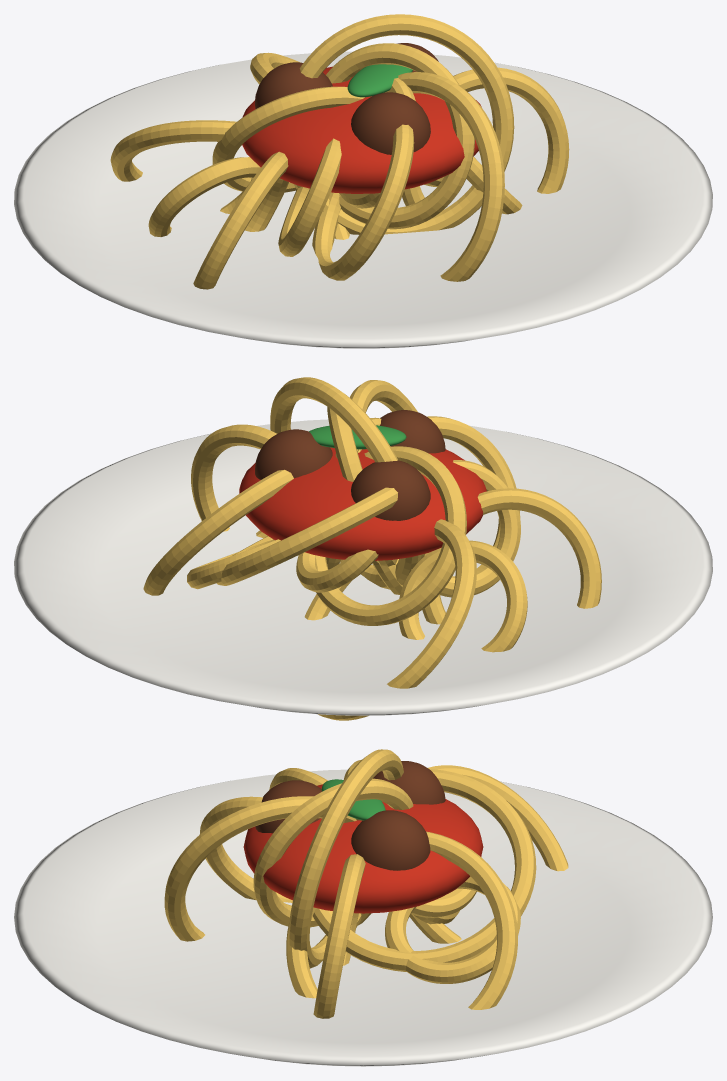
Rendered from plato_espagueti.glb.
3 renders of one model, top to bottom at view 1: azimuth 30°, elevation 25°; view 2: azimuth 150°, elevation 25°; view 3: azimuth 270°, elevation 25°, orthographic.
Parts seen in each view (by area): view 1: plato, Sphere, Torus.012, Torus.009, Torus.017, Torus.014, Torus.011, Torus.020, Torus.008, Sphere.003, Torus.019, Torus.021 (+6 smaller); view 2: plato, Sphere, Torus.008, Torus.021, Torus.011, Torus.012, Torus.018, Torus.016, Torus.015, Sphere.002, Torus.020, Sphere.001 (+8 smaller); view 3: plato, Sphere, Torus.018, Torus.015, Torus.012, Torus.009, Torus.017, Sphere.001, Torus.020, Torus.010, Torus.021, Torus.014 (+5 smaller).
Part boxes in pixels (x1,y1,x2,y2): plato: [14, 51, 712, 348]; Sphere: [242, 66, 481, 193]; Torus.012: [294, 14, 514, 234]; Torus.009: [334, 72, 504, 281]; Torus.017: [326, 43, 474, 229]; Torus.014: [312, 124, 414, 280]; Torus.011: [193, 151, 288, 289]; Torus.020: [402, 67, 569, 206]; Torus.008: [212, 86, 364, 192]; Sphere.003: [351, 92, 430, 154]; Torus.019: [278, 138, 341, 256]; Torus.021: [110, 120, 236, 181]; plato: [14, 419, 712, 715]; Sphere: [239, 447, 486, 560]; Torus.008: [316, 446, 466, 625]; Torus.021: [304, 519, 476, 720]; Torus.011: [420, 488, 601, 624]; Torus.012: [270, 377, 421, 589]; Torus.018: [216, 487, 397, 585]; Torus.016: [399, 540, 527, 652]; Torus.015: [143, 469, 293, 595]; Sphere.002: [351, 460, 430, 520]; Torus.020: [191, 424, 340, 569]; Sphere.001: [255, 429, 332, 479]; plato: [14, 769, 712, 1066]; Sphere: [243, 784, 483, 913]; Torus.018: [313, 769, 536, 971]; Torus.015: [286, 831, 517, 1009]; Torus.012: [288, 749, 403, 968]; Torus.009: [164, 796, 371, 941]; Torus.017: [253, 778, 413, 927]; Sphere.001: [351, 810, 430, 870]; Torus.020: [313, 854, 365, 1018]; Torus.010: [385, 876, 520, 983]; Torus.021: [409, 765, 568, 943]; Torus.014: [199, 796, 292, 902].
Bounding box in the file's own units: 1.44 × 0.5536 × 1.44.
